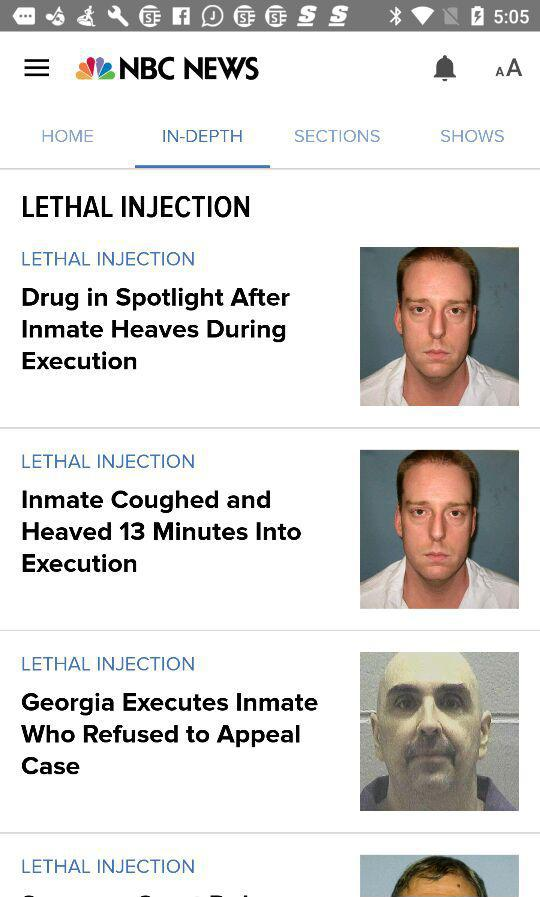Icon: (433, 55, 457, 83), (25, 59, 52, 79)
Image: (360, 652, 519, 811), (360, 450, 519, 609), (360, 247, 519, 406), (360, 855, 519, 897), (75, 57, 260, 82), (495, 58, 523, 78)
Text: (21, 692, 319, 775), (22, 489, 302, 573), (22, 288, 291, 371), (23, 196, 250, 219), (22, 858, 195, 874), (22, 656, 195, 672), (22, 453, 195, 469), (22, 251, 195, 267), (295, 130, 381, 144), (163, 130, 243, 144), (441, 129, 505, 143), (43, 130, 95, 143)
UpperTaskBar: (1, 1, 540, 33)
